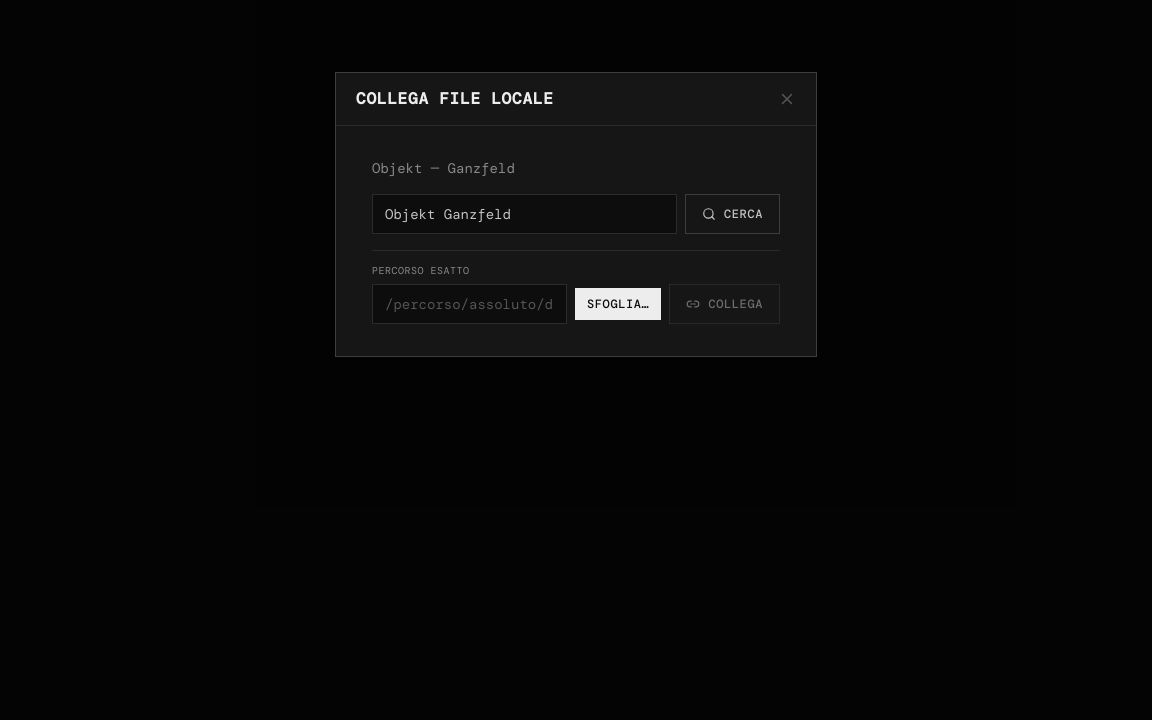
LinkLocalFileModal + picker › il file scelto riempie il percorso esatto senza collegare subito
Step 1. Click the button "Sfoglia…" → {"x": 618, "y": 304}, box top-left (575, 288), bottom-right (661, 320)
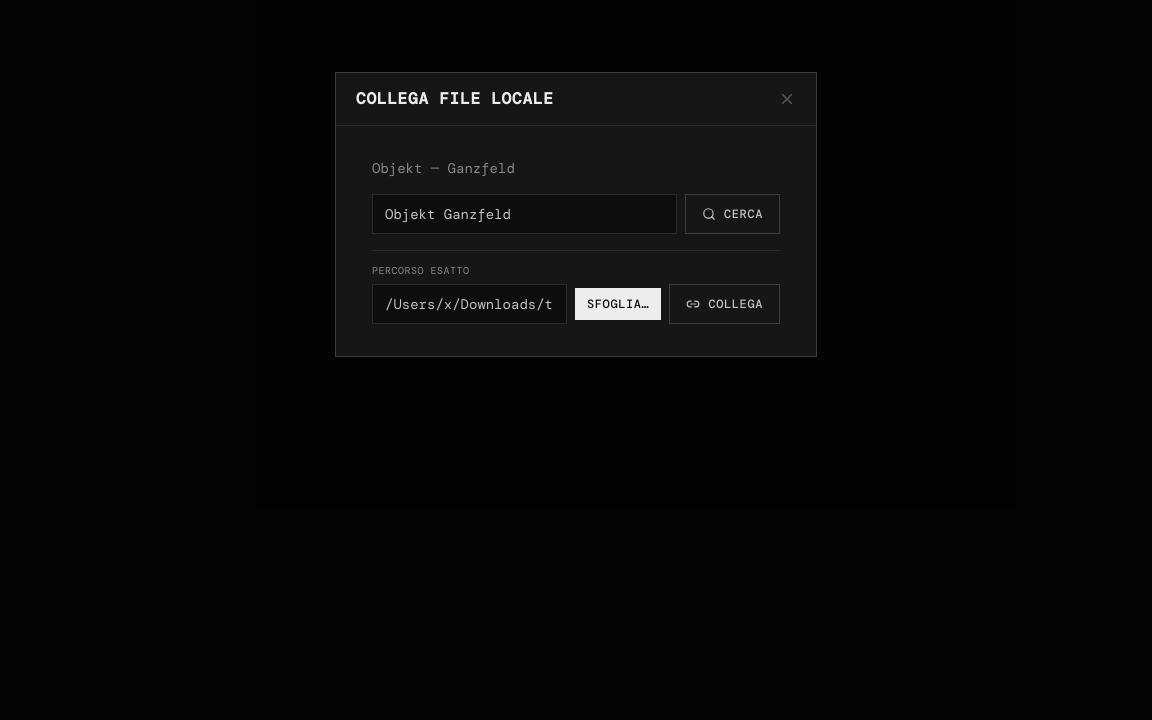
Expected: the field showing "/Users/x/Downloads/track.mp3" below "Percorso esatto" is shown, top-left (372, 284), bottom-right (567, 324)
